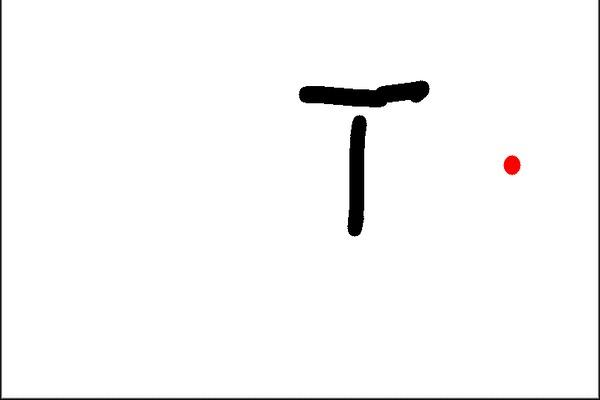T: (296, 70, 434, 240)
